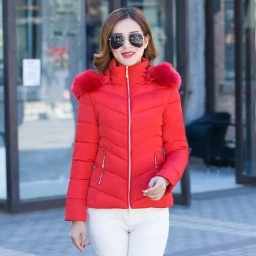face: (94, 8, 163, 71)
